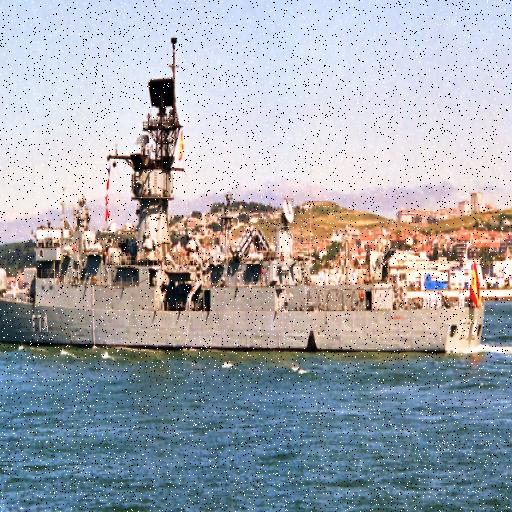Fragata: (1, 30, 488, 365)
